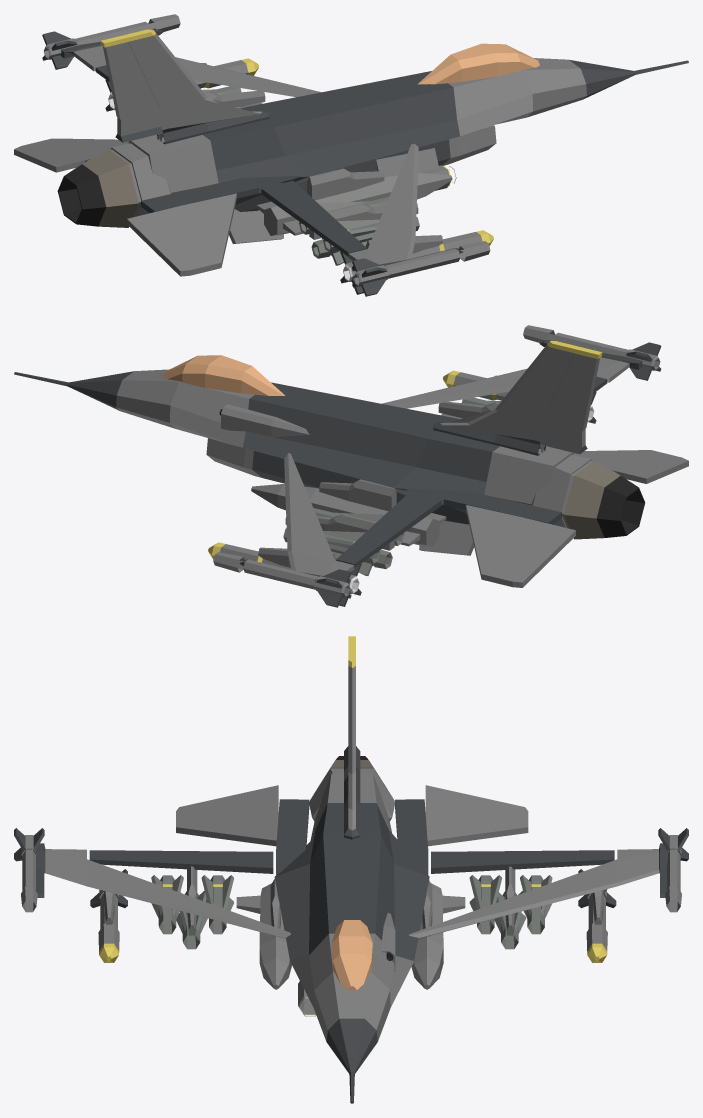
3 views of the same model, one above another, from view 1: azimuth 30°, elevation 25°; view 2: azimuth 150°, elevation 25°; view 3: azimuth 270°, elevation 25° (orthographic). The views are drawn at different scales.
Parts seen in each view (by area): view 1: Cylinder.001_LightGrey_0, Cylinder.001_Grey_0, Cylinder.001_Black_0, Cylinder.001_Green_0; view 2: Cylinder.001_LightGrey_0, Cylinder.001_Grey_0, Cylinder.001_Black_0, Cylinder.001_Green_0; view 3: Cylinder.001_LightGrey_0, Cylinder.001_Grey_0, Cylinder.001_Green_0, Cylinder.001_Black_0.
Part boxes in pixels (bbox=[...]): Cylinder.001_LightGrey_0: bbox=[14, 14, 586, 286]; Cylinder.001_Grey_0: bbox=[42, 28, 688, 296]; Cylinder.001_Black_0: bbox=[57, 29, 539, 281]; Cylinder.001_Green_0: bbox=[162, 86, 419, 265]; Cylinder.001_LightGrey_0: bbox=[116, 325, 688, 597]; Cylinder.001_Grey_0: bbox=[14, 340, 661, 607]; Cylinder.001_Black_0: bbox=[163, 341, 645, 594]; Cylinder.001_Green_0: bbox=[283, 397, 540, 575]; Cylinder.001_LightGrey_0: bbox=[21, 666, 681, 1041]; Cylinder.001_Grey_0: bbox=[14, 746, 688, 1103]; Cylinder.001_Green_0: bbox=[151, 875, 552, 949]; Cylinder.001_Black_0: bbox=[99, 636, 607, 1015].
Size of the model in its own units: 15 by 5.2 by 13.65.
